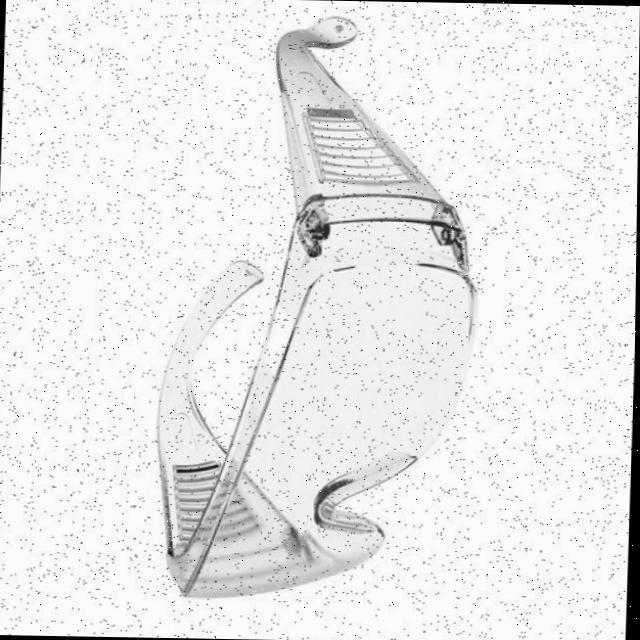goggles_on: (150, 3, 492, 610)
